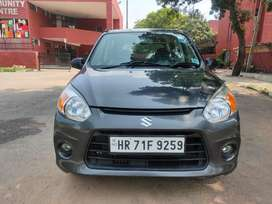HR71F9259: (109, 137, 184, 153)
